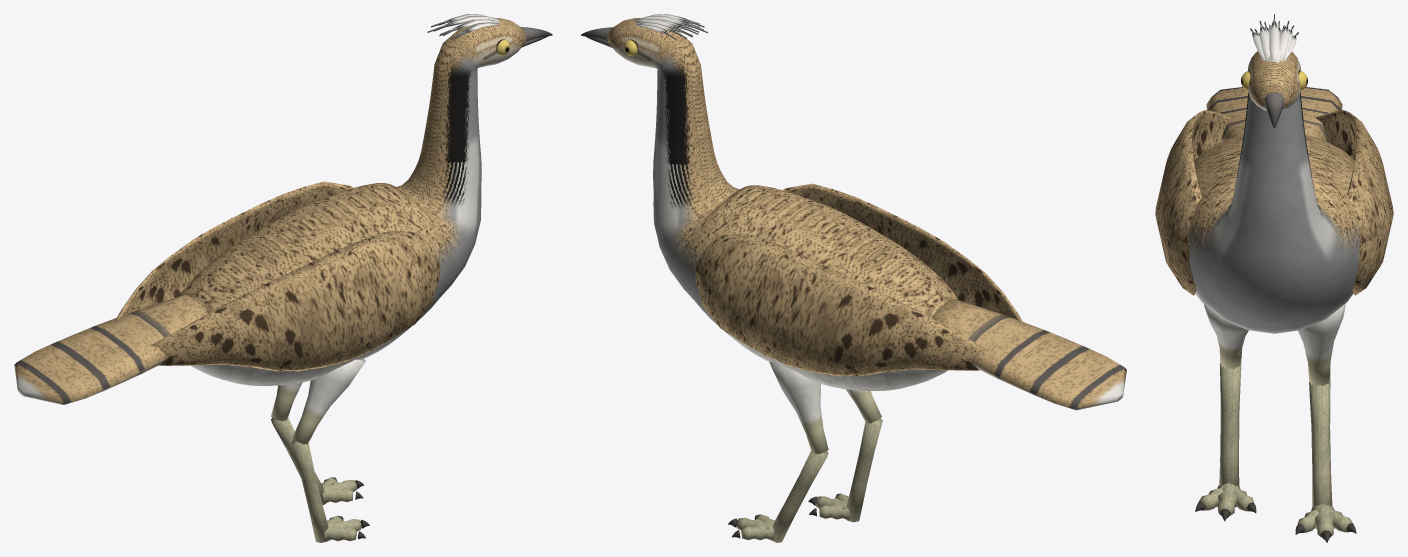
File: houbara_alert.glb
3 views of the same model, side by side, from view 1: azimuth 30°, elevation 25°; view 2: azimuth 150°, elevation 25°; view 3: azimuth 270°, elevation 25° (orthographic). The views are drawn at different scales.
Visible parts, largest first — view 1: houbara_body; view 2: houbara_body; view 3: houbara_body.
Boxes of the visible parts, x1,y1,x2,y2 form: houbara_body: (14,14,552,542); houbara_body: (581,14,1126,542); houbara_body: (1155,14,1393,542).
Size of the model in its own units: 0.5213 by 0.4401 by 0.168.
Materials: 1 (1 with a texture image).
